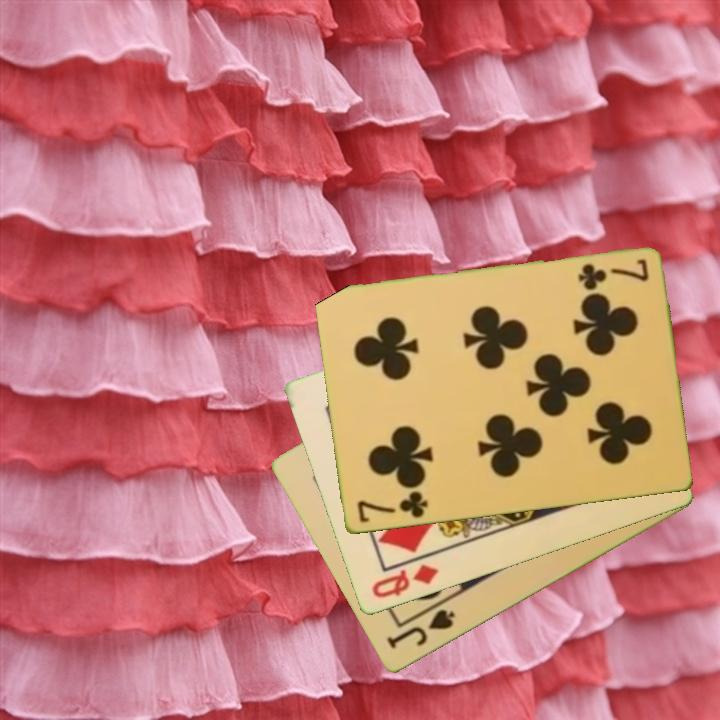7c: (353, 487, 431, 526), (574, 256, 652, 293)
Js: (383, 606, 458, 652)
Qd: (368, 561, 441, 602)
